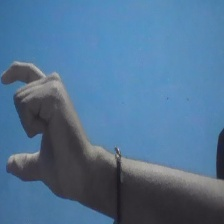G: (1, 56, 92, 205)
